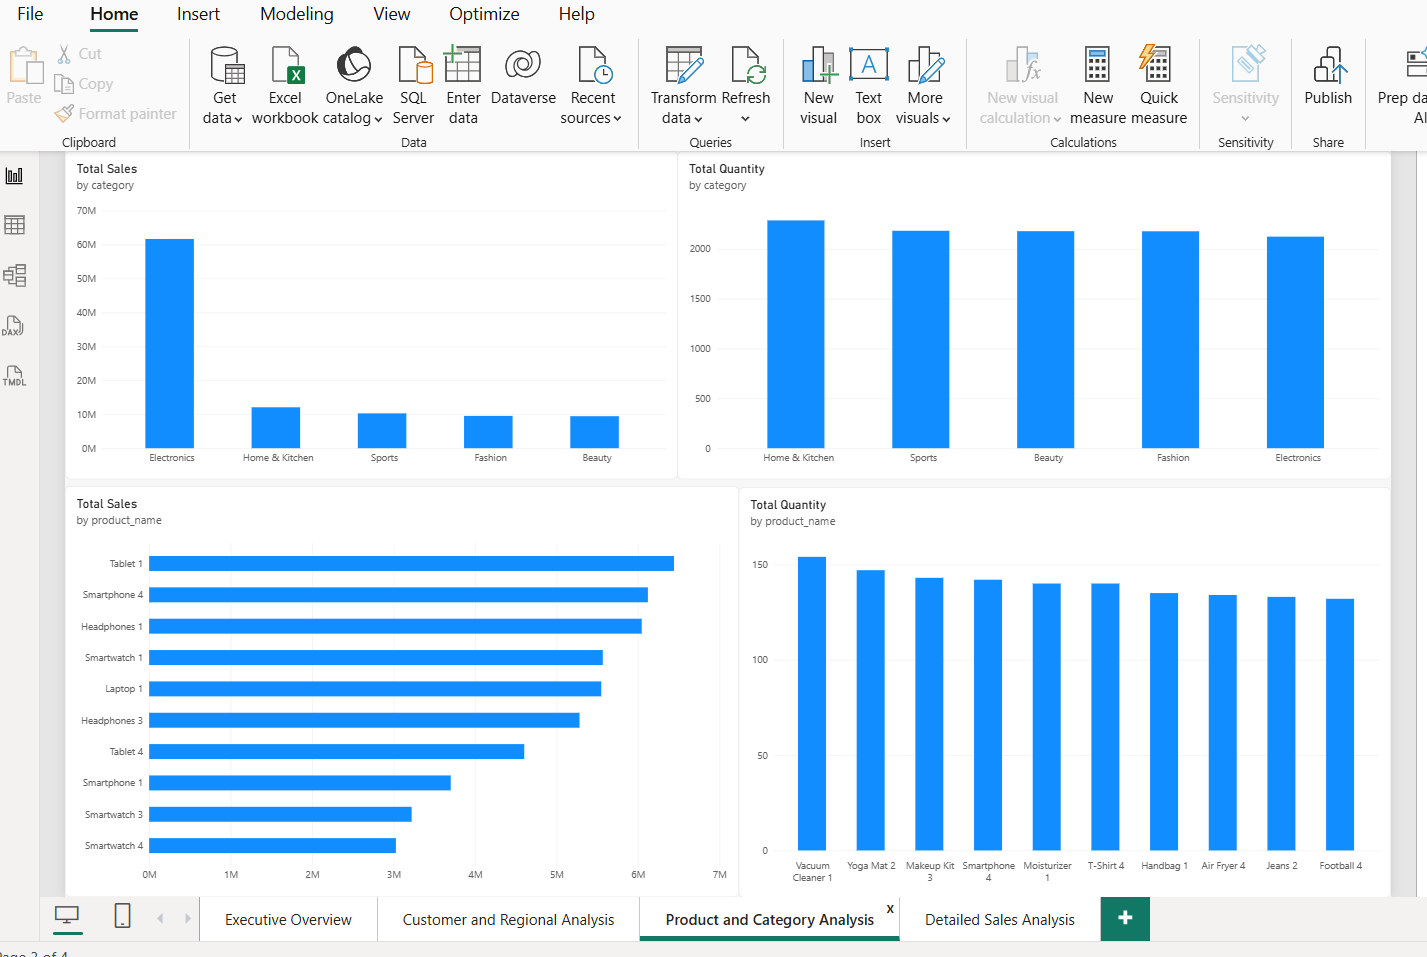

What the dashboard file says about the page in this screenshot:
{"tool":"powerbi","page":{"name":"Product and Category Analysis","canvas":[1920,1080],"ordinal":2},"visuals":[{"type":"clusteredColumnChart","fields":{"Category":["ecommerce_sal_analysis.category"],"Y":["DAX Measure.Total Sales"]},"box":[0,0,887.1,475.5],"z":0},{"type":"barChart","fields":{"Category":["ecommerce_sal_analysis.product_name"],"Y":["DAX Measure.Total Sales"]},"box":[0,485.8,975.6,594.9],"z":1000},{"type":"columnChart","fields":{"Category":["ecommerce_sal_analysis.category"],"Y":["DAX Measure.Total Quantity"]},"box":[887.1,0,1033.3,475.5],"z":2000},{"type":"columnChart","fields":{"Category":["ecommerce_sal_analysis.product_name"],"Y":["DAX Measure.Total Quantity"]},"box":[976,486,944,594],"z":2001}]}

Visuals, with their boxes on the page's 1920x1080 design canvas (x1, y1, x2, y2). These are canvas units, not pixel positions in the 1427x957 screenshot, which may show the page scaled, cropped or inside an application window:
clusteredColumnChart - ecommerce_sal_analysis.category x DAX Measure.Total Sales: {"left": 0, "top": 0, "right": 887, "bottom": 476}
barChart - ecommerce_sal_analysis.product_name x DAX Measure.Total Sales: {"left": 0, "top": 486, "right": 976, "bottom": 1081}
columnChart - ecommerce_sal_analysis.category x DAX Measure.Total Quantity: {"left": 887, "top": 0, "right": 1920, "bottom": 476}
columnChart - ecommerce_sal_analysis.product_name x DAX Measure.Total Quantity: {"left": 976, "top": 486, "right": 1920, "bottom": 1080}
